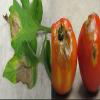Tomato leaf late blight: (1, 39, 41, 97), (2, 1, 46, 52)
